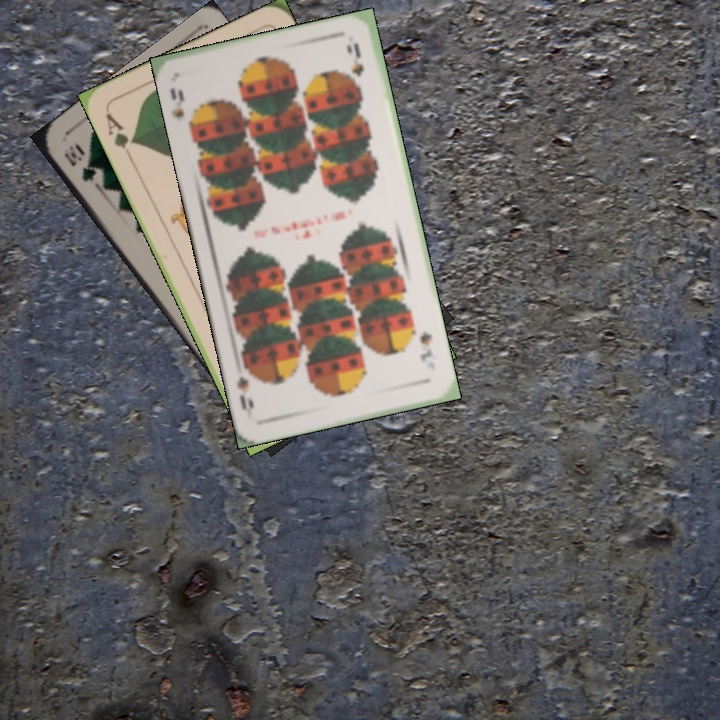G10: (60, 141, 100, 184)
GA: (101, 109, 139, 163)
S9: (166, 84, 197, 135), (416, 327, 435, 365)
